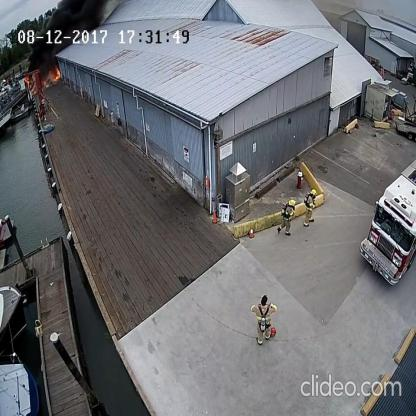fire: (42, 63, 62, 87), (22, 73, 36, 95)
